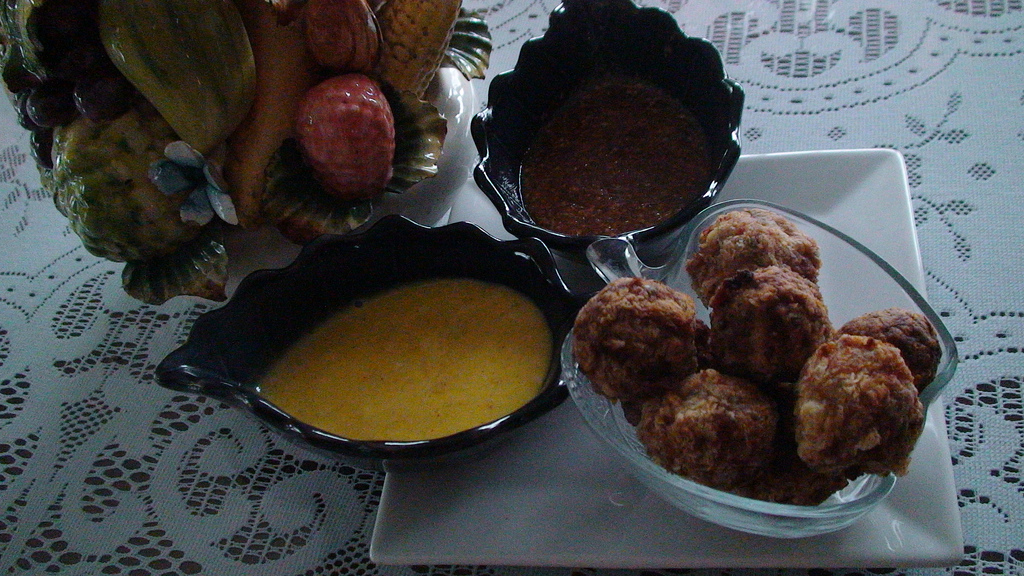meatballs: (599, 275, 896, 447)
